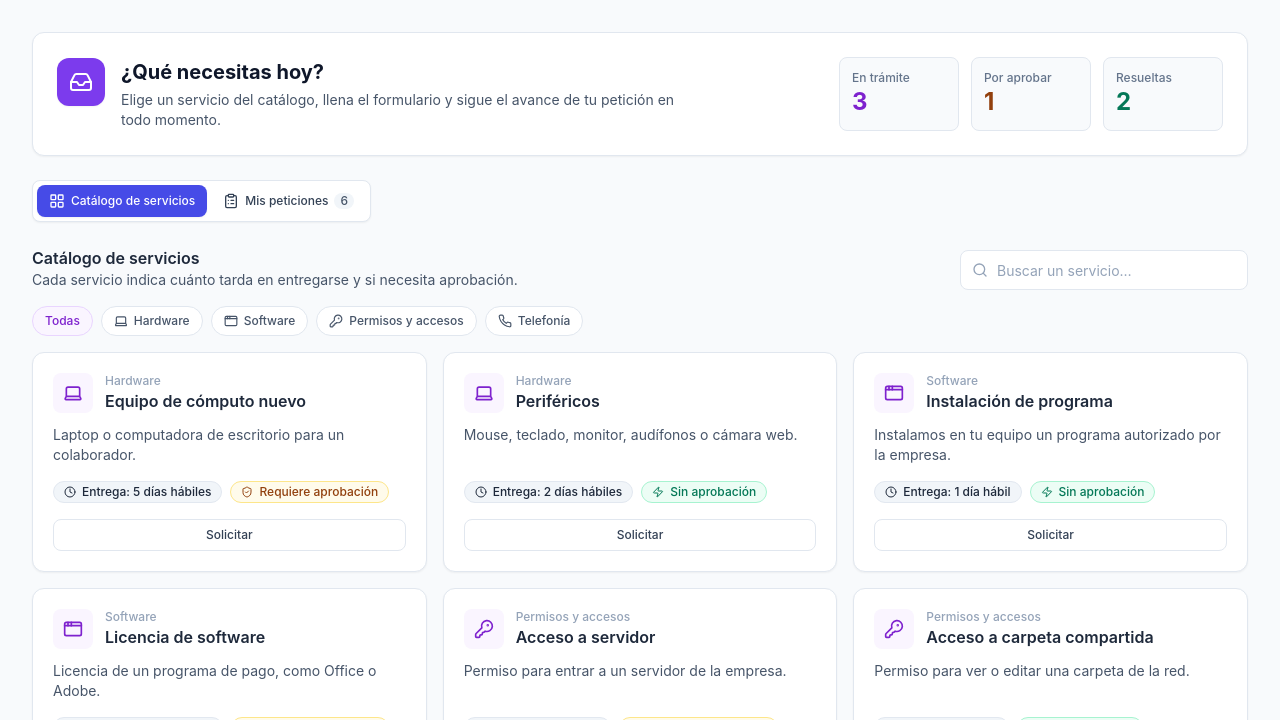
RequestsPage › filtra el catálogo por categoría
The width and height of the screenshot is (1280, 720).
Click the button "Telefonía": (534, 321) x1=485 y1=306 x2=583 y2=336
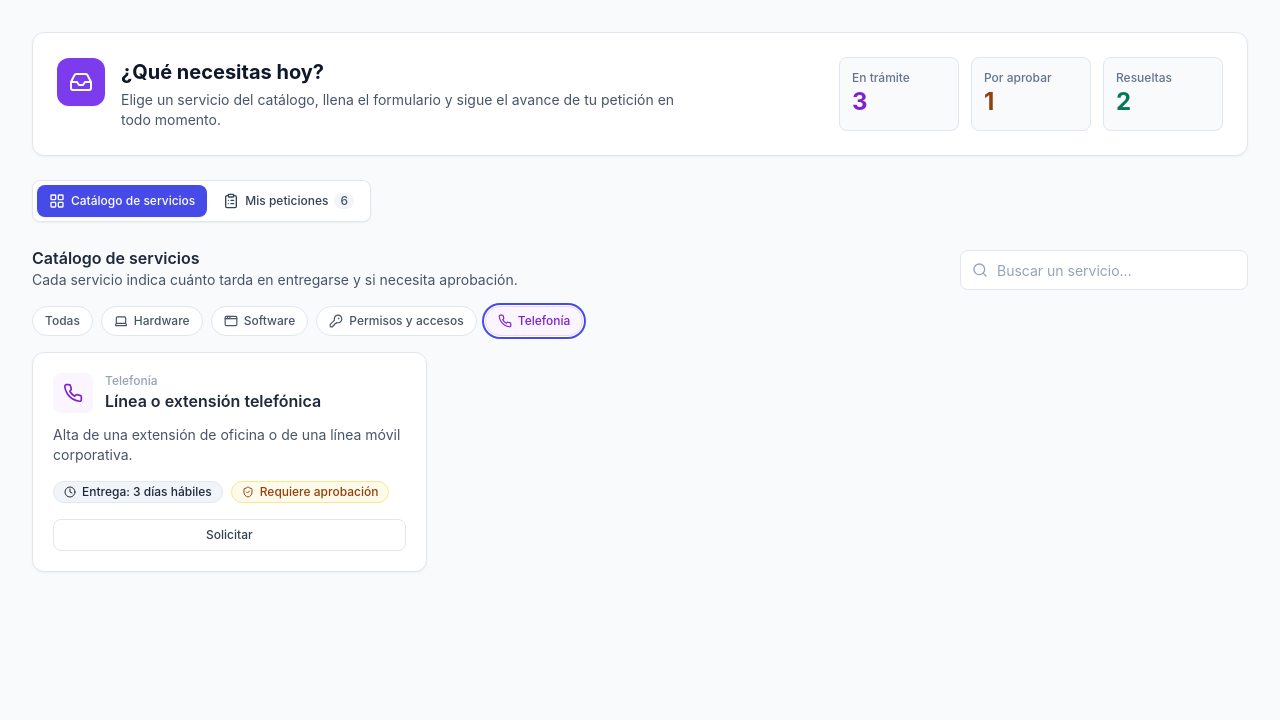
Expected: the heading "Línea o extensión telefónica" is shown, x1=105 y1=389 x2=321 y2=413
Now the heading "Acceso a servidor" is gone
